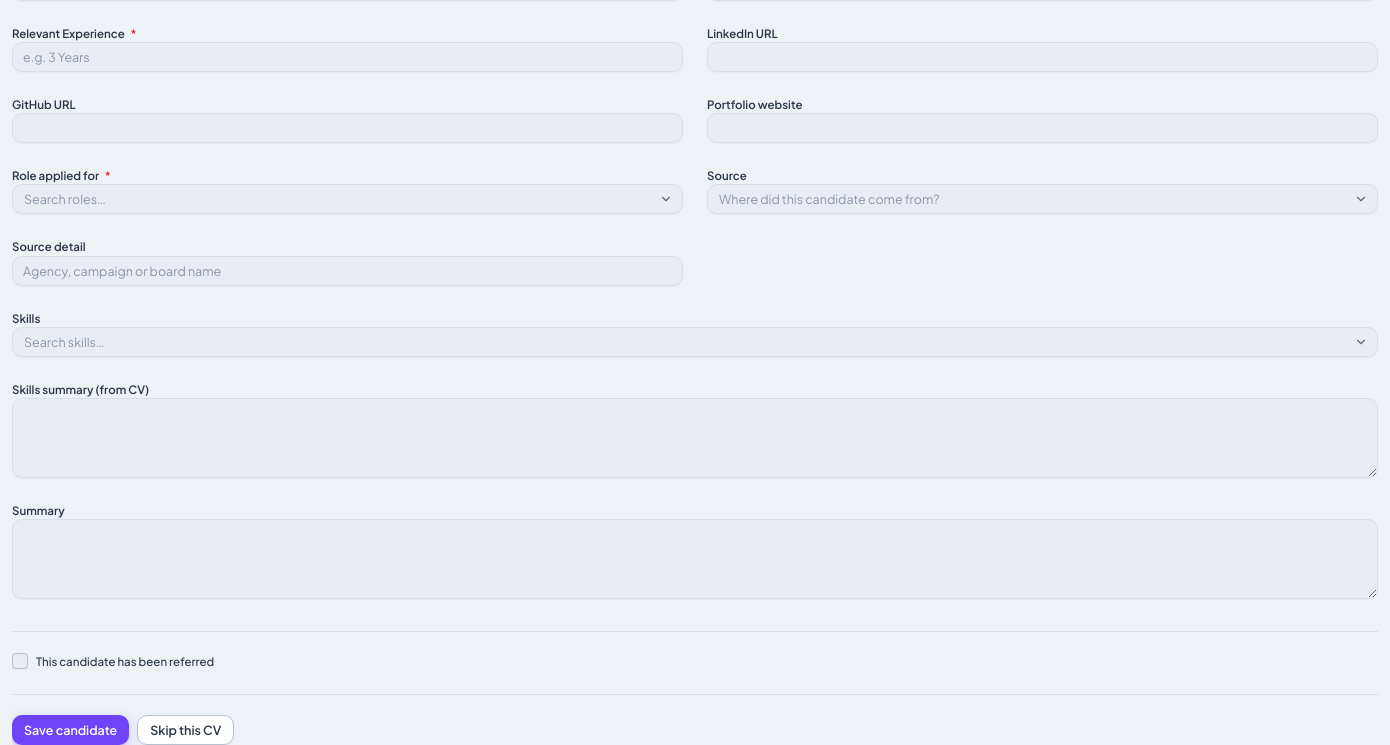
Test case: CandidateForm › shows validation errors and does not submit when required fields are empty
(page scrolled)
Step 1. Click the button "Save candidate" → x=71, y=730, box left=12, top=715, right=129, bottom=744
(page scrolled)
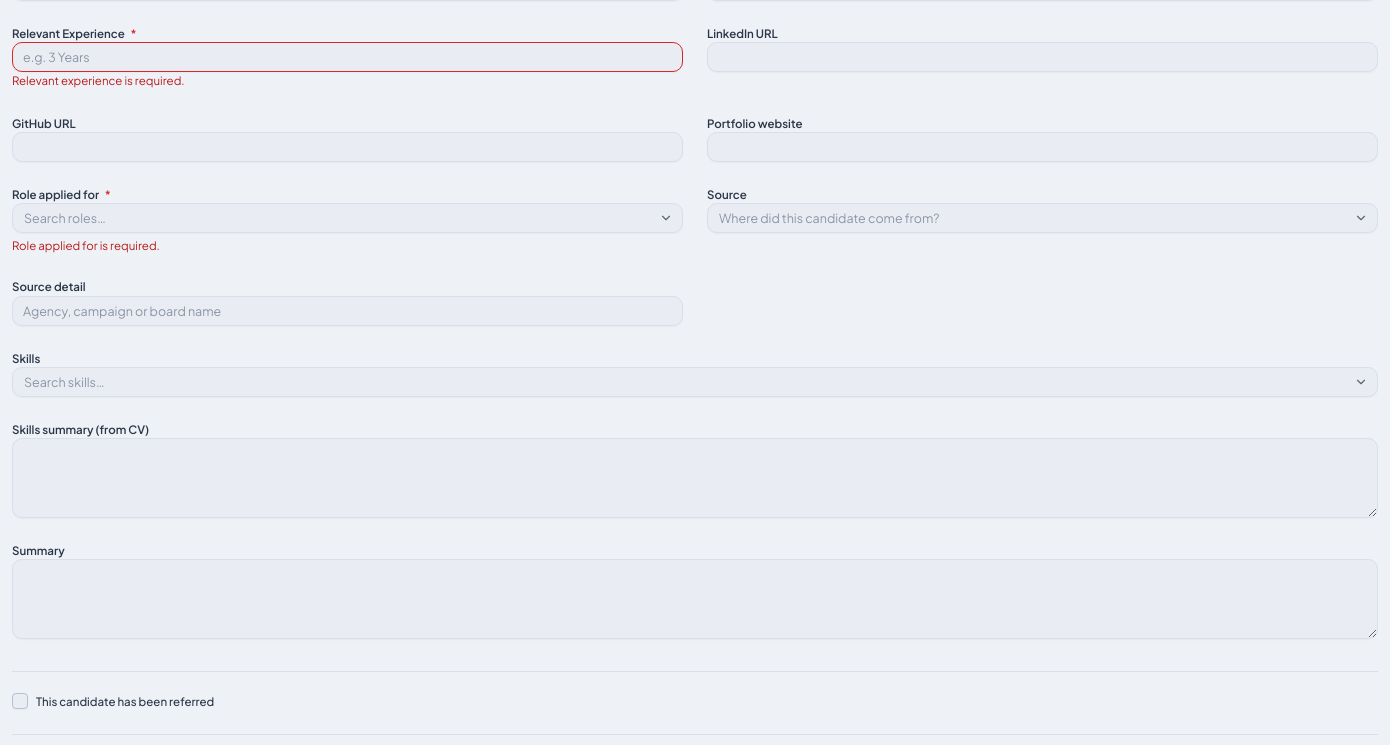
Result: the text "Relevant experience is required." is shown at left=12, top=73, right=185, bottom=88
Result: the text "Role applied for is required." is shown at left=12, top=238, right=160, bottom=253
